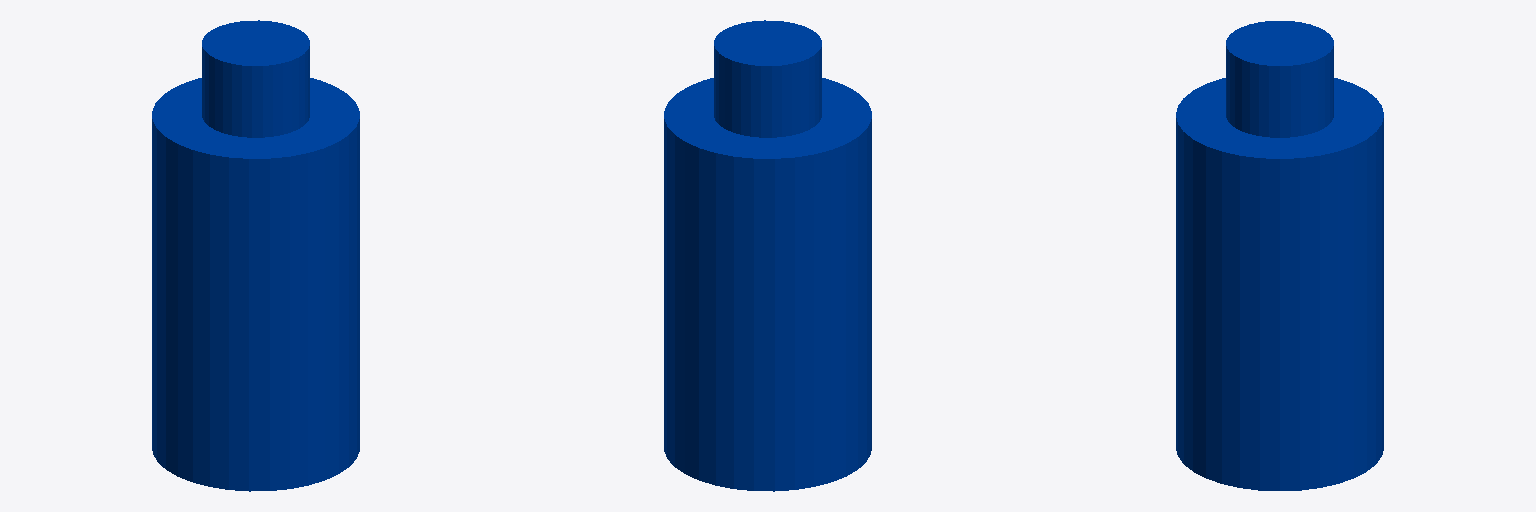
The robot description file, URDF, robot "bottle":
<?xml version="1.0"?>
<robot name="bottle">
    <material name="blue">
        <color rgba="0 0.3 0.7 1"/>
    </material>
    <link name="base_link">
        <visual>
            <geometry>
                <mesh filename="bottle.stl" scale="1 1 1"/>
            </geometry>
            <material name="blue"/>
        </visual>
        <collision>
            <geometry>
                <mesh filename="bottle.stl" scale="1 1 1"/>
            </geometry>
        </collision>
        <inertial>
            <mass value="0.5"/>
            <inertia ixx="0.0041667" ixy="0.0" ixz="0.0" iyy="0.0041667" iyz="0.0" izz="0.0020833"/>
            <origin xyz="0 0 0"/>
        </inertial>
    </link>
</robot>

--- What the picture shows (computed from the rendered views, not written in the file) ---
The picture shows the robot from 3 angles, left to right: view 1: azimuth 30°, elevation 25°; view 2: azimuth 150°, elevation 25°; view 3: azimuth 270°, elevation 25°; orthographic projection.
Robot: bottle — 1 links, 0 joints (none); root link base_link; default pose: every joint at zero.
Visible links, largest first — view 1: base_link; view 2: base_link; view 3: base_link.
Link boxes in pixels (left/top/right/bottom): base_link: left=152, top=20, right=359, bottom=491; base_link: left=664, top=20, right=871, bottom=491; base_link: left=1176, top=21, right=1383, bottom=490.
Size in the robot's own frame: 0.05 by 0.05 by 0.107 metres.
Meshes: 1 distinct files referenced, 1 mesh visuals loaded (1 binary STL).
